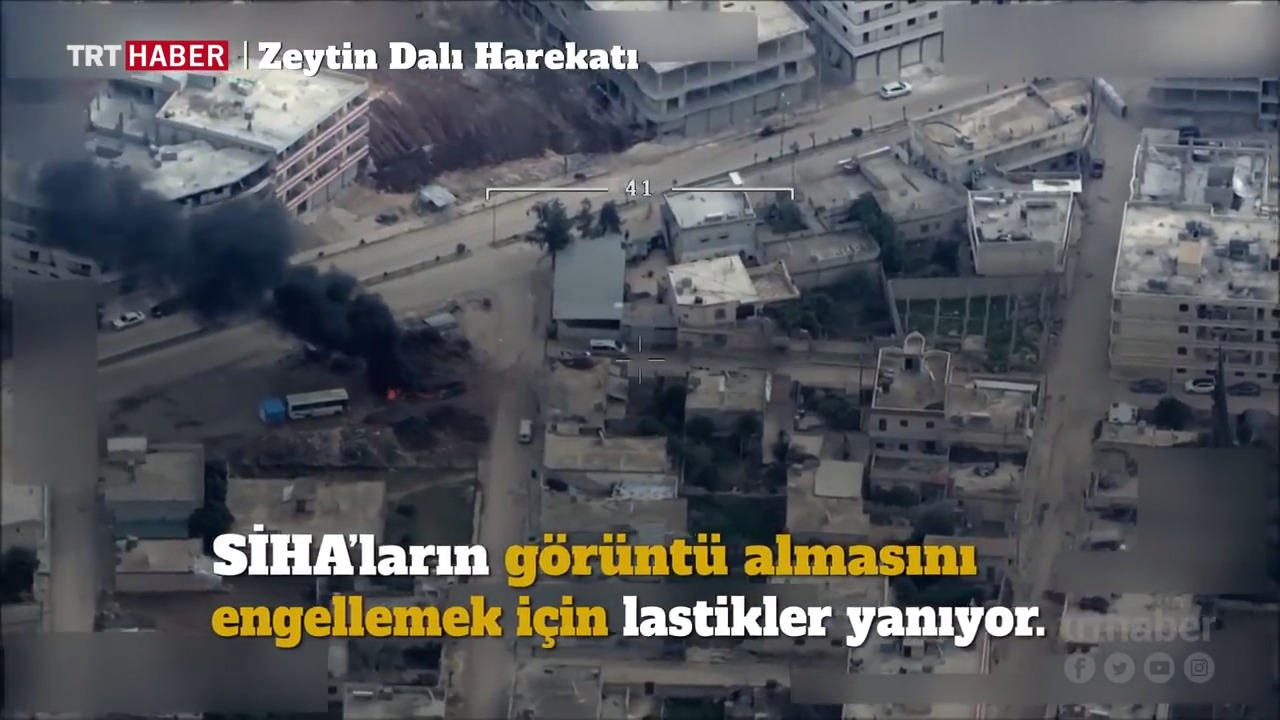arac: (286, 378, 351, 429), (147, 289, 185, 326), (1180, 368, 1223, 398), (576, 337, 634, 358), (107, 303, 146, 331), (878, 72, 917, 100), (1224, 374, 1267, 398), (1130, 369, 1171, 394), (512, 415, 542, 447), (1085, 149, 1113, 180), (1173, 121, 1202, 141)
bina: (545, 206, 648, 333)
